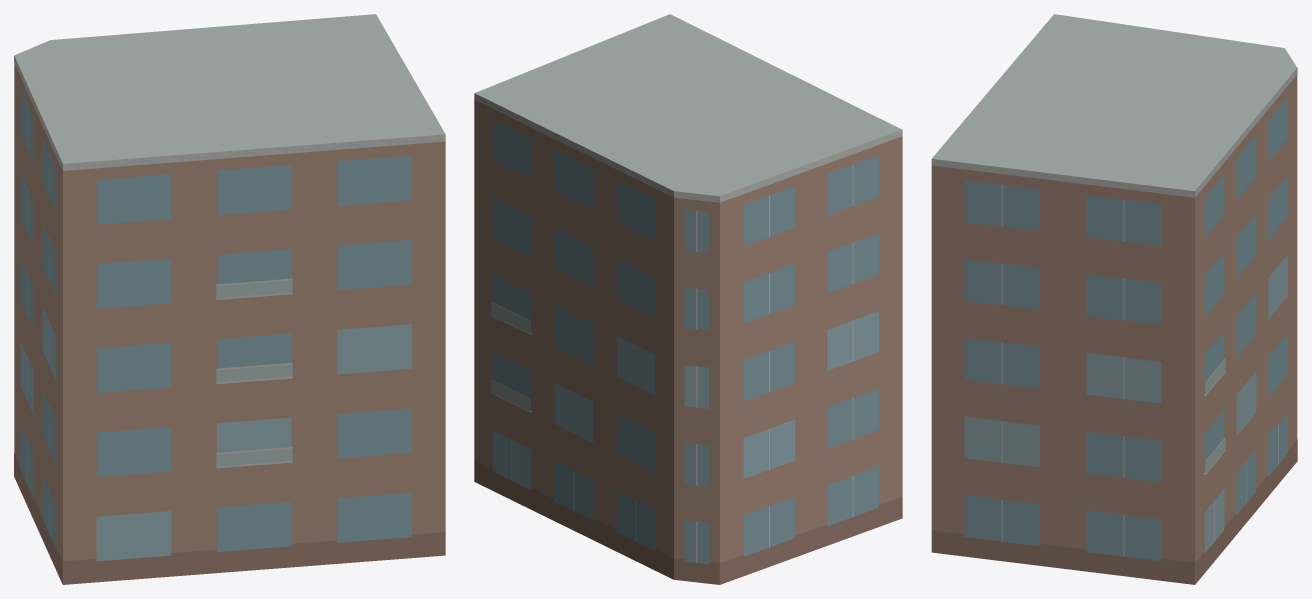
File: survey-upis-32948821.glb
3 views of the same model, side by side, from view 1: azimuth 30°, elevation 25°; view 2: azimuth 150°, elevation 25°; view 3: azimuth 270°, elevation 25° (orthographic). The views are drawn at different scales.
Parts seen in each view (by area): view 1: survey-upis-32948821.tmp; view 2: survey-upis-32948821.tmp; view 3: survey-upis-32948821.tmp.
Part boxes in pixels (x1,y1,x2,y2): survey-upis-32948821.tmp: (14,14,445,584); survey-upis-32948821.tmp: (474,14,902,584); survey-upis-32948821.tmp: (931,14,1297,584).
Bounding box in the file's own units: 14.11 × 14.6 × 12.31.
